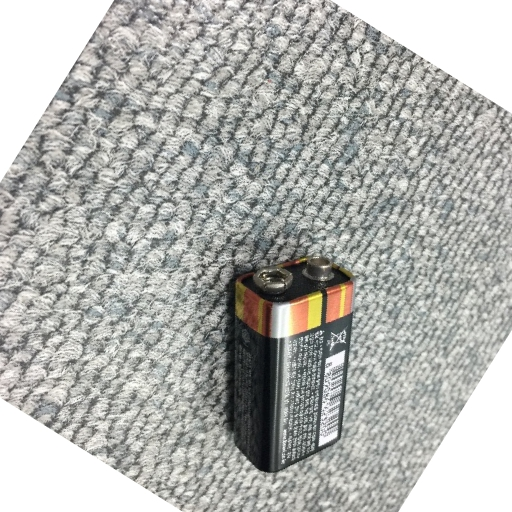Battery_3: (225, 243, 362, 481)
